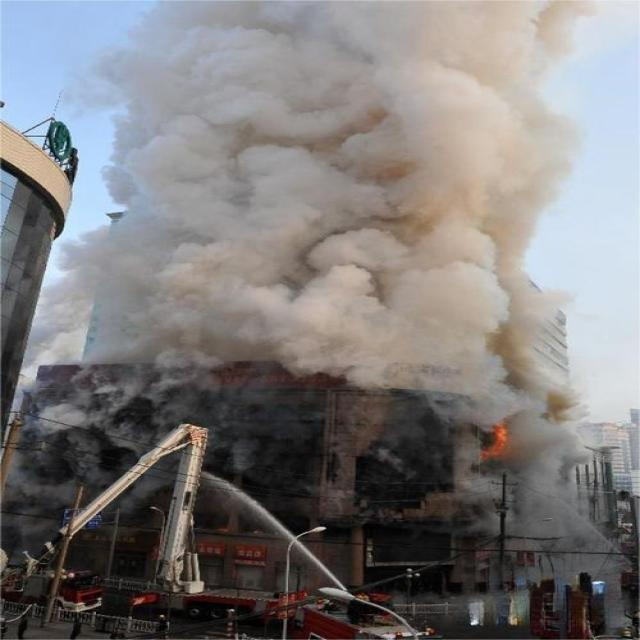Smoke: (54, 0, 592, 384)
